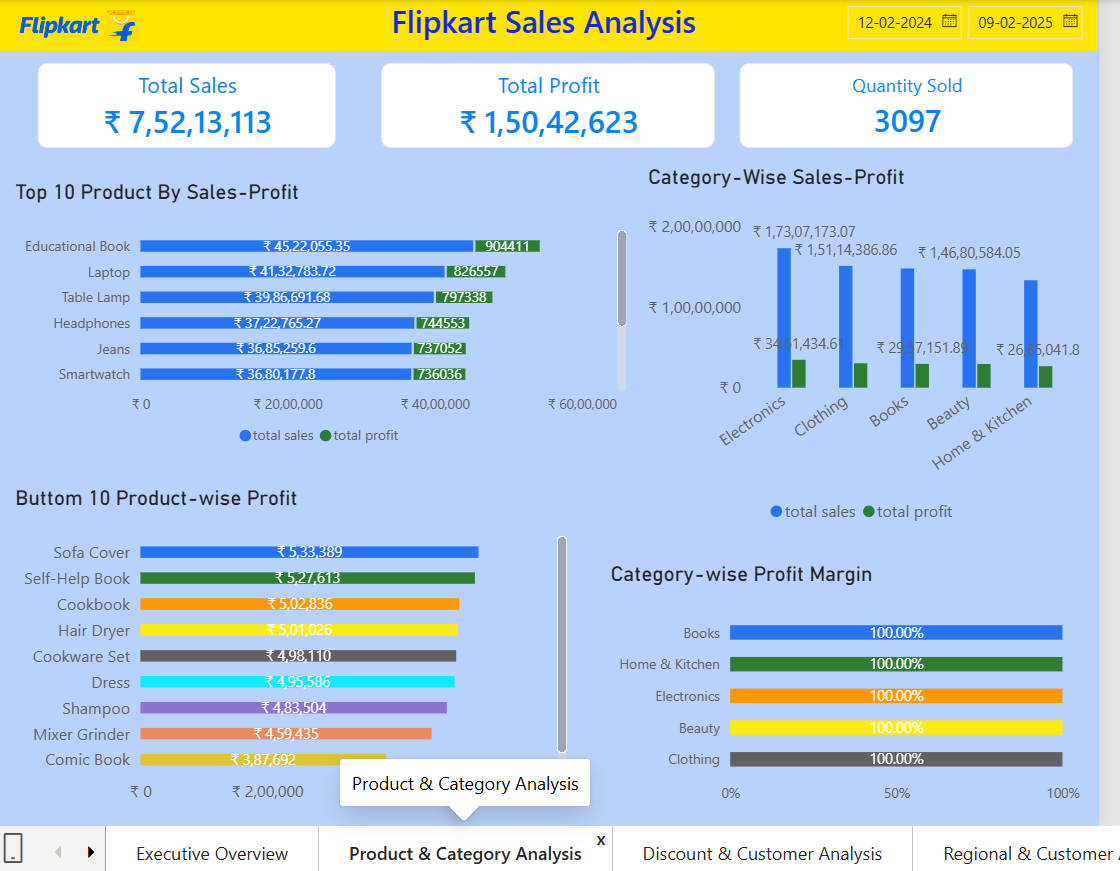

Layout of this report page (visuals, bound fields, positions):
{"tool":"powerbi","page":{"name":"Product & Category Analysis","canvas":[960,720],"ordinal":1},"visuals":[{"type":"shape","box":[0,0,959.7,44.5],"z":0},{"type":"textbox","box":[343.9,0,291.6,44.5],"z":1000},{"type":"image","box":[0,0,143.8,44.5],"z":2000},{"type":"slicer","fields":{"Values":["public flipkart.order_date"]},"box":[733.5,0,226.2,44.5],"z":3000},{"type":"cardVisual","fields":{"Data":["public flipkart.total sales"]},"box":[35.3,54.9,260.2,74.5],"z":4000},{"type":"cardVisual","fields":{"Data":["public flipkart.total profit"]},"box":[334.7,54.9,291.6,74.5],"z":5000},{"type":"cardVisual","fields":{"Data":["public flipkart.quantity sold"]},"box":[647.2,54.9,291.6,74.5],"z":6000},{"type":"barChart","title":"Top 10 Product By Sales-Profit ","fields":{"Category":["public flipkart.product_name"],"Y":["public flipkart.total sales","public flipkart.total profit"]},"box":[0,142.5,564.9,266.7],"z":7000},{"type":"barChart","title":"Buttom 10 Product-wise Profit","fields":{"Category":["public flipkart.product_name"],"Y":["public flipkart.total profit","public flipkart.total sales"]},"box":[0,408.6,518.6,311.4],"z":8000},{"type":"clusteredColumnChart","title":"Category-Wise Sales-Profit","fields":{"Category":["public flipkart.category"],"Y":["public flipkart.total profit"]},"box":[551.8,129.4,407.9,346.5],"z":9000},{"type":"hundredPercentStackedBarChart","title":"Category-wise Profit Margin","fields":{"Category":["public flipkart.category"],"Y":["public flipkart.profit margin"]},"box":[519.1,475.9,440.6,244.5],"z":10000}]}

Visuals, with their boxes on the page's 960x720 design canvas (x1, y1, x2, y2). These are canvas units, not pixel positions in the 1120x871 screenshot, which may show the page scaled, cropped or inside an application window:
shape: (0,0,960,44)
textbox: (344,0,636,44)
image: (0,0,144,44)
slicer - public flipkart.order_date: (734,0,960,44)
cardVisual - public flipkart.total sales: (35,55,296,129)
cardVisual - public flipkart.total profit: (335,55,626,129)
cardVisual - public flipkart.quantity sold: (647,55,939,129)
"Top 10 Product By Sales-Profit " barChart: (0,142,565,409)
"Buttom 10 Product-wise Profit" barChart: (0,409,519,720)
"Category-Wise Sales-Profit" clusteredColumnChart: (552,129,960,476)
"Category-wise Profit Margin" hundredPercentStackedBarChart: (519,476,960,720)
